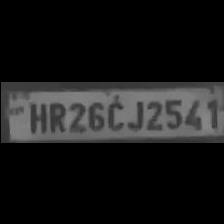1: (202, 94, 222, 128)
2: (64, 98, 86, 132), (142, 96, 162, 130)
4: (182, 95, 204, 129)
5: (162, 95, 182, 129)
6: (85, 98, 105, 132)
C: (104, 97, 124, 130)
H: (24, 98, 46, 132)
J: (124, 96, 144, 130)
R: (46, 99, 64, 134)
